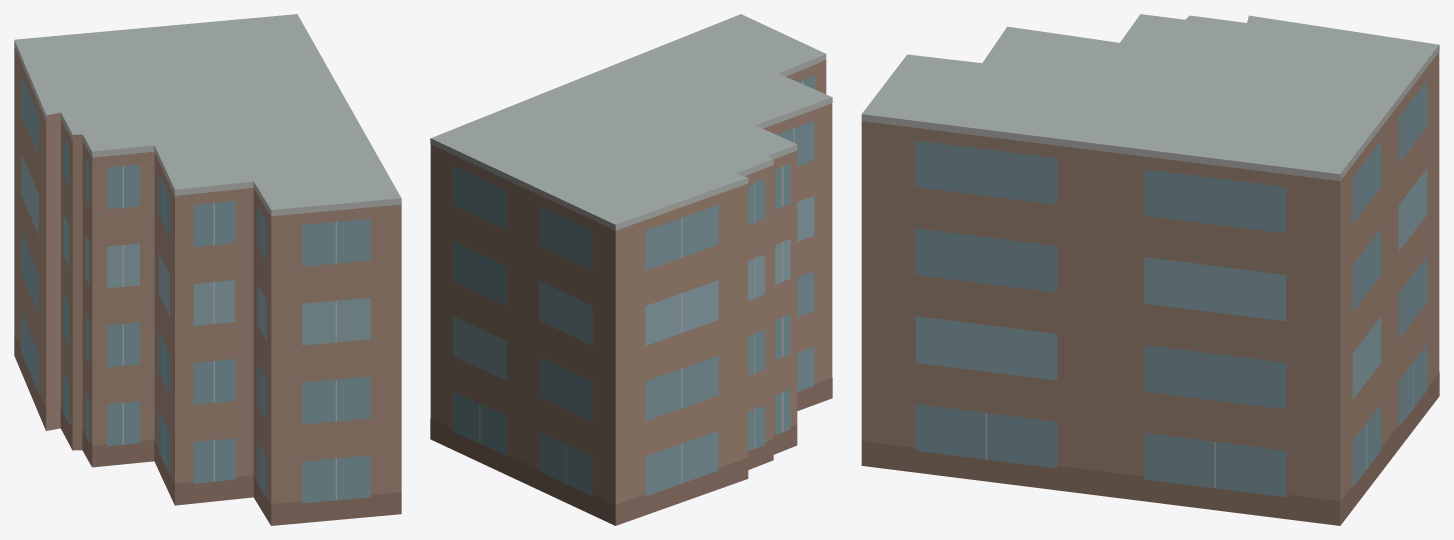
Rendered from survey-upis-32464764.glb.
The picture shows the model from 3 angles, left to right: view 1: azimuth 30°, elevation 25°; view 2: azimuth 150°, elevation 25°; view 3: azimuth 270°, elevation 25°; orthographic projection. The views are drawn at different scales.
Parts seen in each view (by area): view 1: survey-upis-32464764.tmp; view 2: survey-upis-32464764.tmp; view 3: survey-upis-32464764.tmp.
Boxes of the visible parts, x1=… form: survey-upis-32464764.tmp: x1=14, y1=14, x2=401, y2=525; survey-upis-32464764.tmp: x1=430, y1=14, x2=832, y2=525; survey-upis-32464764.tmp: x1=861, y1=14, x2=1439, y2=525.
Size of the model in its own units: 12.18 by 12.45 by 18.55.
